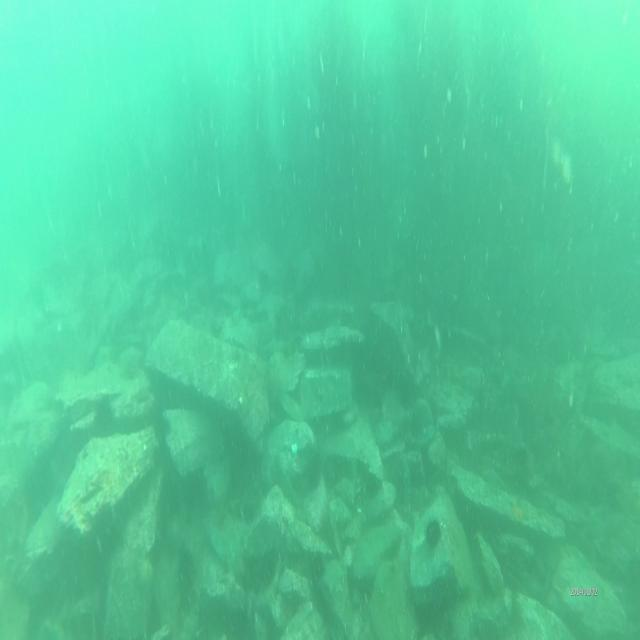echinus: (94, 394, 115, 437), (137, 550, 158, 592), (423, 514, 442, 548)
starfish: (510, 497, 524, 520)
